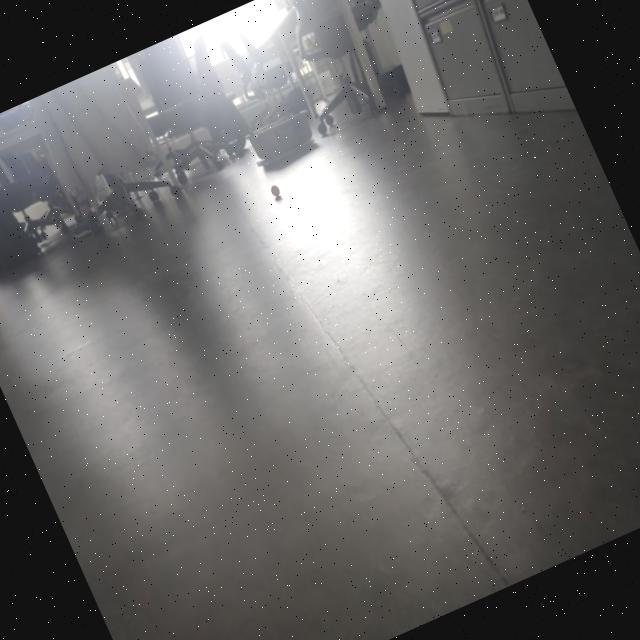ping-pong-ball: (265, 178, 284, 200)
